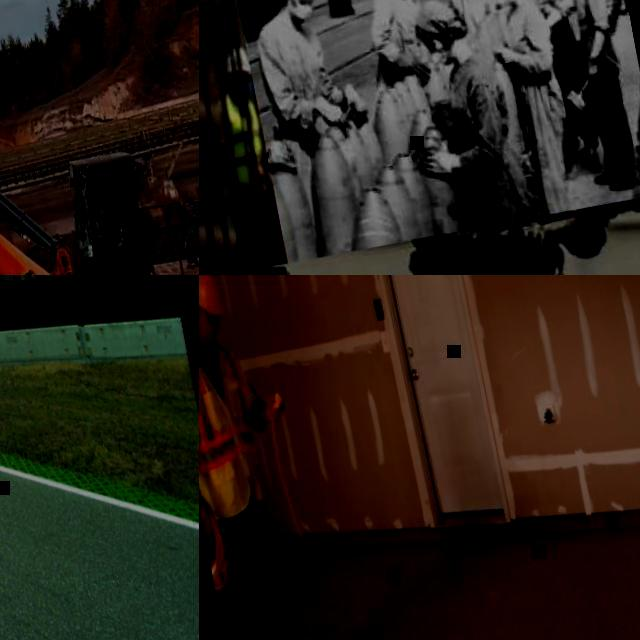helmet: (199, 275, 227, 319), (219, 44, 249, 79)
machinery: (0, 0, 199, 275)
mask: (430, 46, 453, 68), (290, 1, 314, 22), (238, 78, 254, 102), (495, 0, 511, 7)
no_helmet: (410, 0, 466, 40), (96, 191, 105, 200)
no_mask: (199, 318, 219, 339), (98, 203, 102, 210)
no_vest: (441, 52, 514, 172), (272, 13, 332, 98), (500, 0, 548, 82), (380, 0, 431, 49), (572, 0, 615, 28), (540, 0, 581, 18), (98, 206, 112, 232)
person: (199, 275, 341, 640), (389, 0, 531, 234), (486, 0, 588, 217), (199, 48, 285, 270), (546, 0, 640, 194), (402, 205, 630, 275), (521, 0, 611, 176), (243, 0, 352, 135), (350, 0, 452, 84), (84, 190, 116, 251)
vest: (199, 325, 275, 490), (214, 95, 268, 186)
